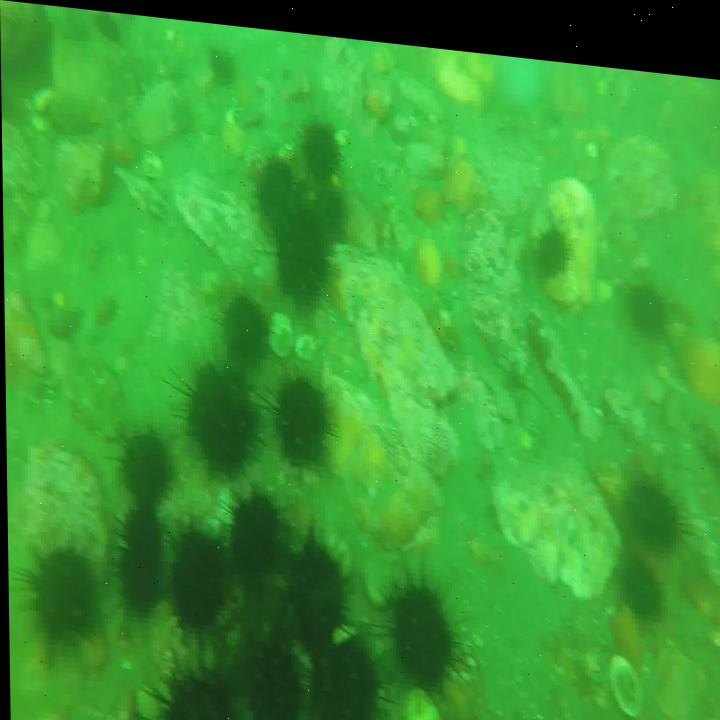echinus: (177, 353, 259, 481), (387, 567, 461, 695), (23, 539, 102, 657), (164, 519, 231, 647), (283, 526, 350, 648), (237, 618, 308, 720), (309, 622, 380, 720), (269, 361, 331, 464), (112, 501, 165, 619), (144, 652, 235, 720), (225, 488, 283, 588), (275, 192, 326, 300), (214, 277, 269, 376), (627, 452, 683, 545), (115, 422, 168, 509), (253, 150, 301, 229), (295, 111, 343, 181), (623, 533, 664, 609), (624, 264, 669, 327), (307, 170, 345, 239), (535, 213, 573, 269)
scallop: (606, 636, 643, 707), (398, 677, 446, 720), (265, 307, 296, 357), (296, 323, 319, 359)
